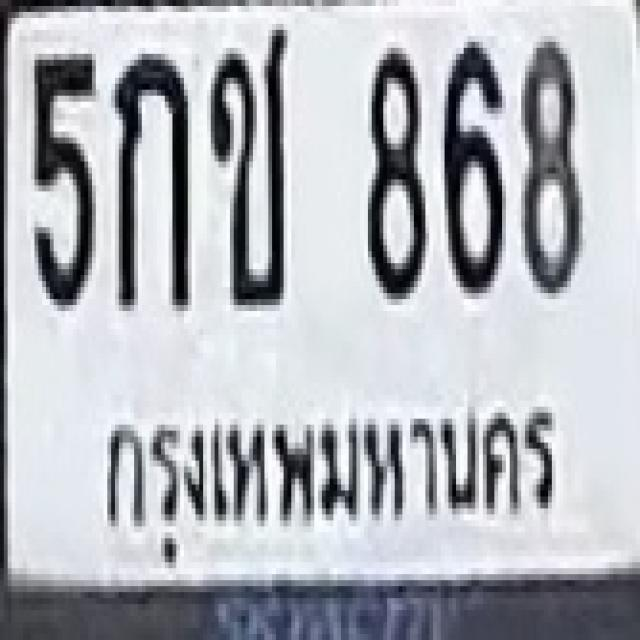-: (205, 24, 286, 299), (111, 48, 188, 305)
5: (31, 48, 92, 305)
6: (441, 39, 502, 290)
8: (517, 36, 579, 293), (366, 42, 423, 293)
BKK: (79, 371, 576, 578)
